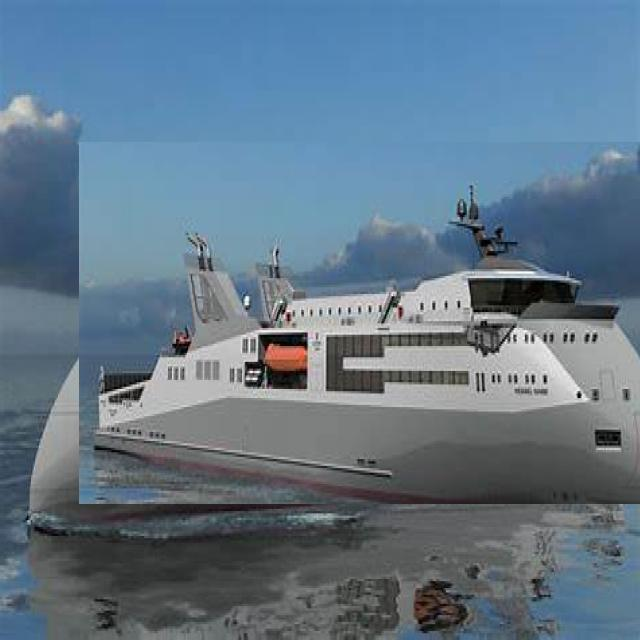PassengerShip: (79, 142, 640, 504)
